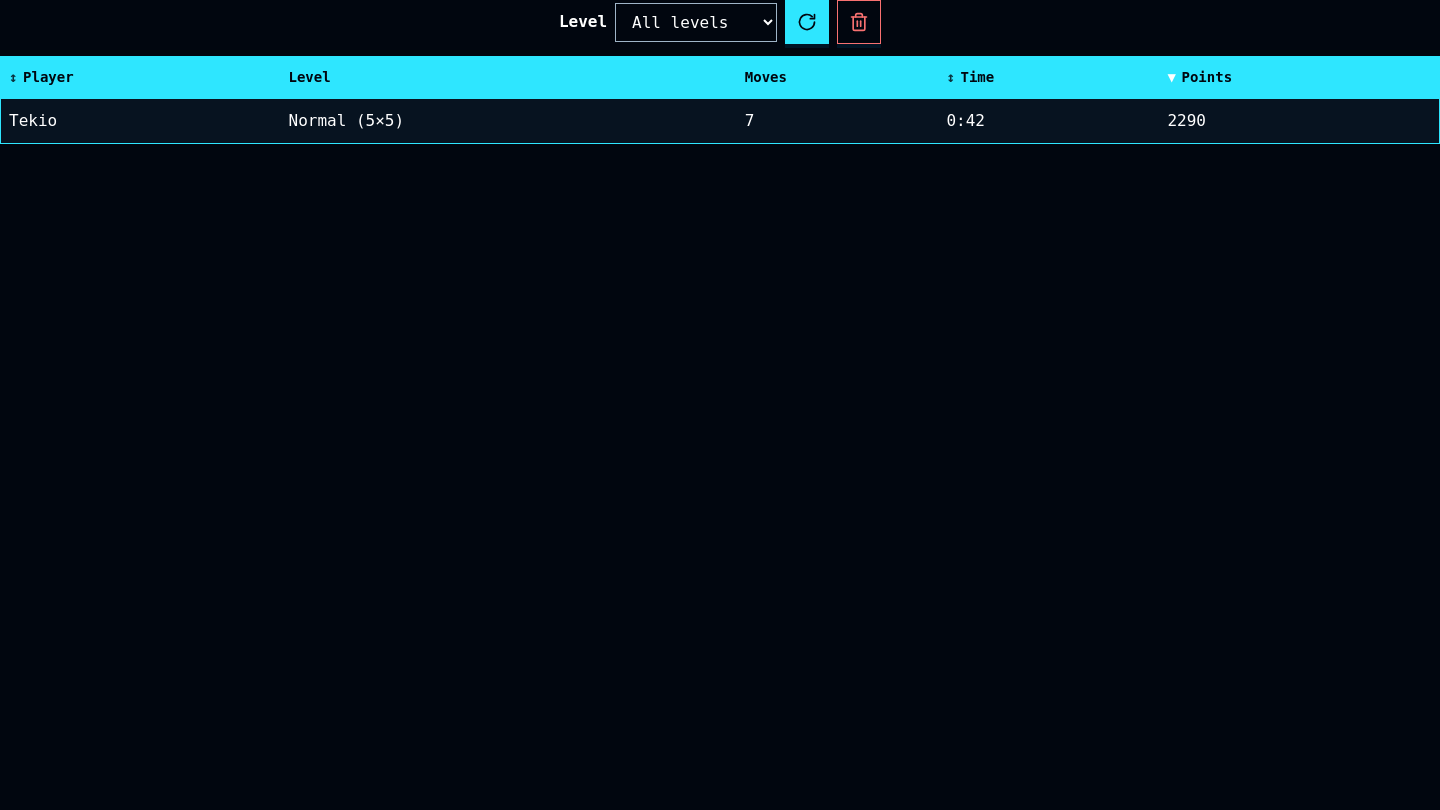
Scenario: Leaderboard › refreshes the leaderboard and reports the count after a successful purge
Check: the text "Tekio" is shown, box [1,98,280,143]
Click the button named "Clear leaderboard": x=859, y=22 [837,0,881,44]
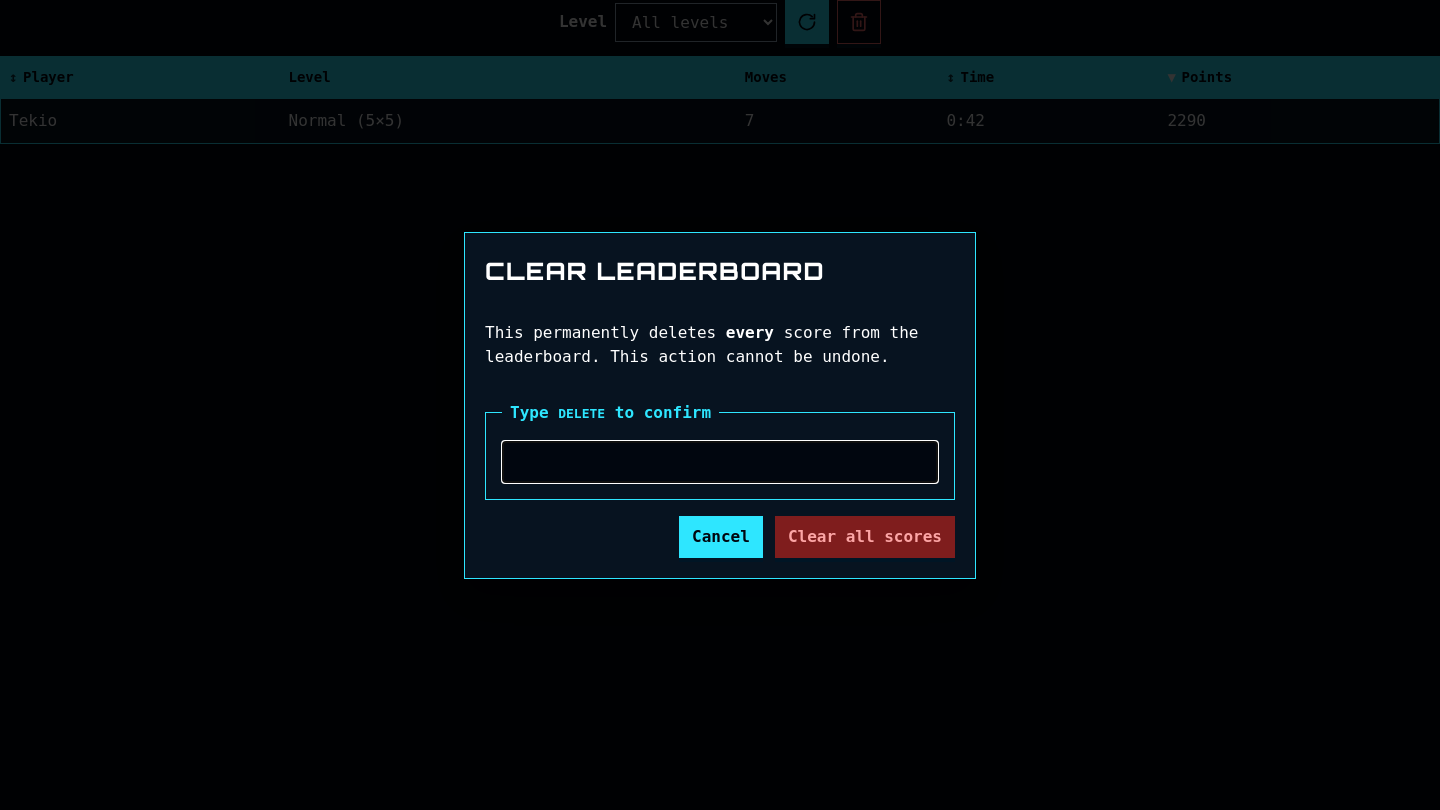
In the field labelled "Type DELETE to confirm": x=720, y=462 [502,440,938,482], type "DELETE"
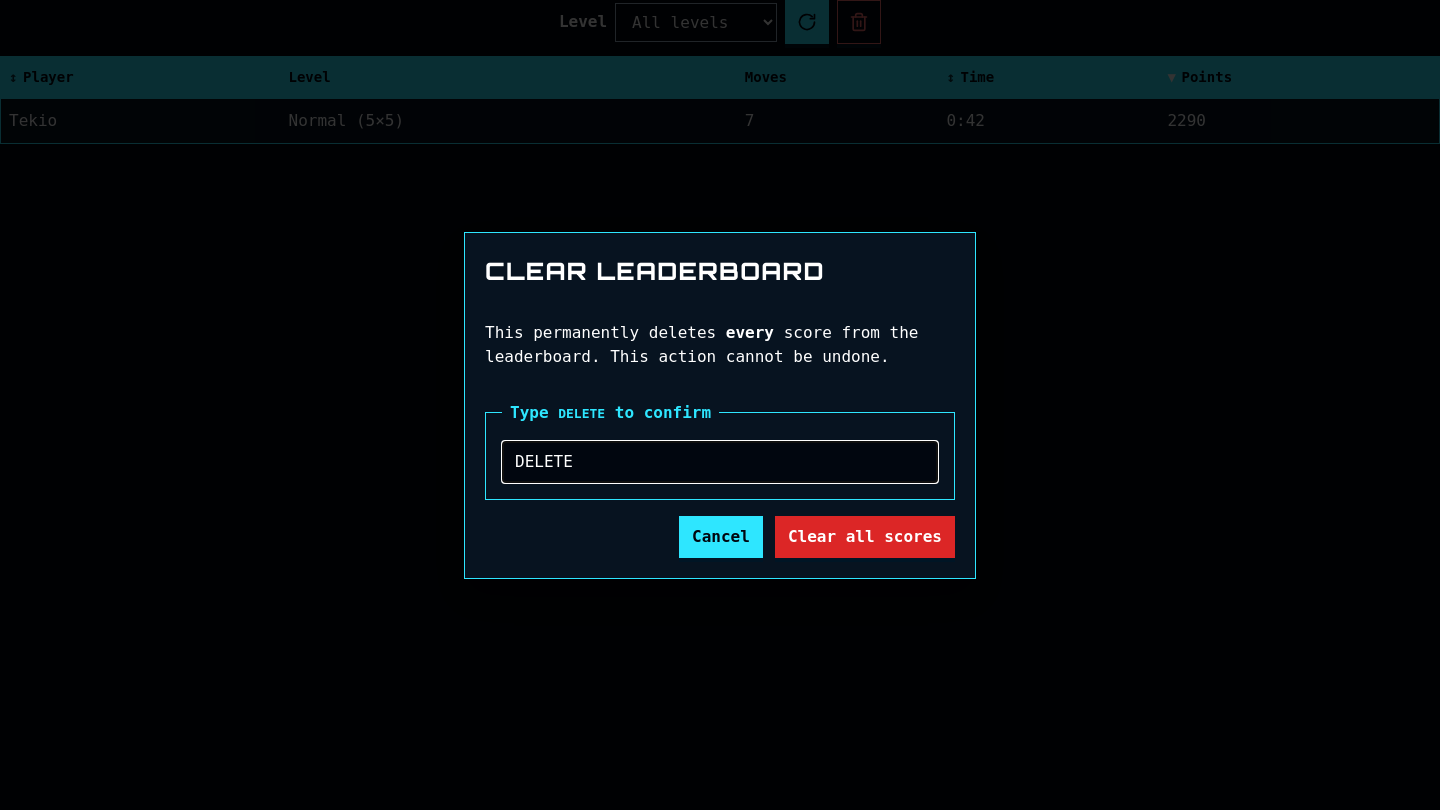
Click the button "Clear all scores": x=865, y=536 [775,516,955,558]
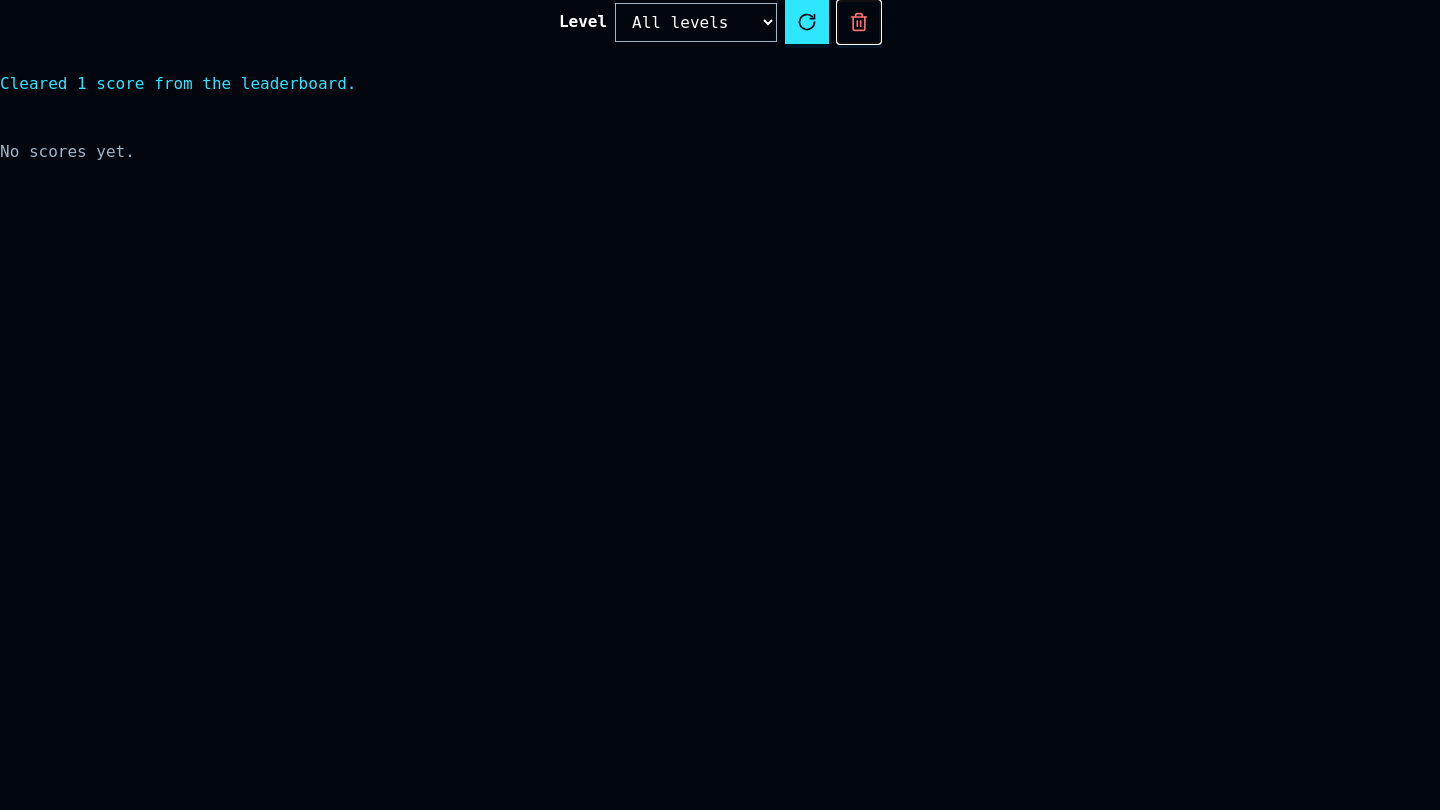
Check: the text "Cleared 1 score from the leaderboard." is shown, box [0,74,356,93]
Check: the text "No scores yet." is shown, box [0,142,135,161]
